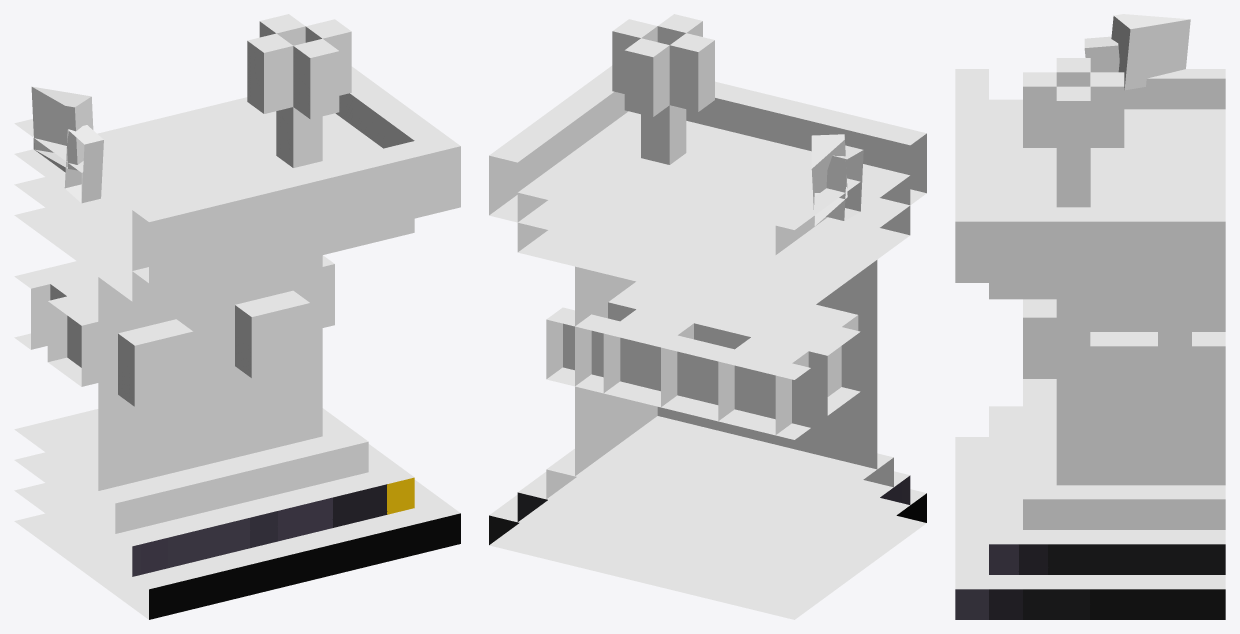
File: forbidden_hex_source_altar_imported_formed_5.obj
3 renders of one model, left to right at view 1: azimuth 30°, elevation 25°; view 2: azimuth 150°, elevation 25°; view 3: azimuth 270°, elevation 25°, orthographic. The views are drawn at different scales.
Parts seen in each view (by area): view 1: altar; view 2: altar; view 3: altar.
Boxes of the visible parts, x1,y1,x2,y2 form: altar: [14, 14, 460, 619]; altar: [489, 14, 926, 619]; altar: [955, 14, 1225, 619].
Bounding box in the file's own units: 1 × 1.5 × 0.75.
